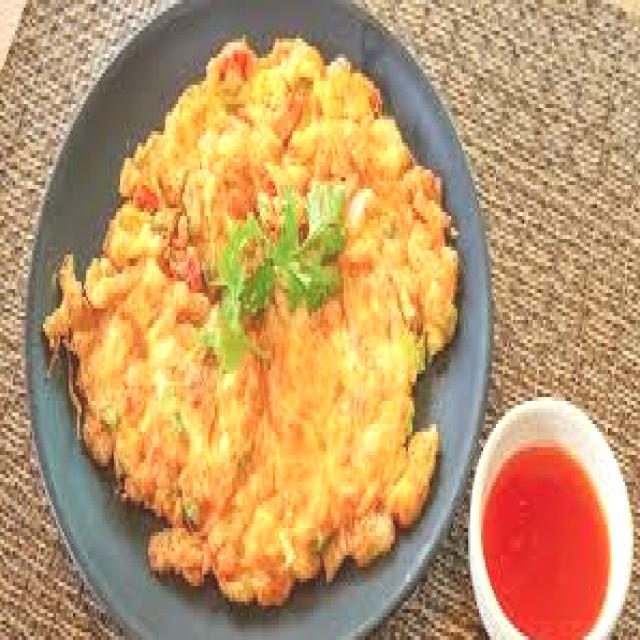telur_dadar: (63, 34, 456, 588)
